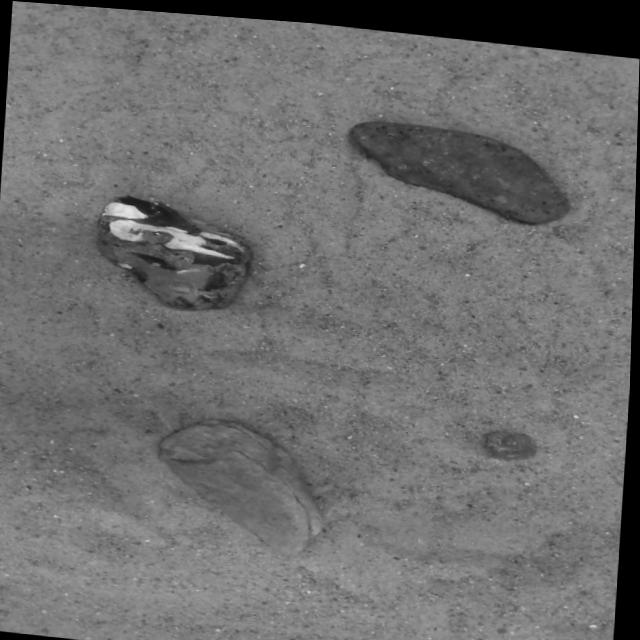rock: (351, 115, 569, 215), (163, 417, 324, 547), (99, 195, 251, 306), (487, 424, 537, 452)
